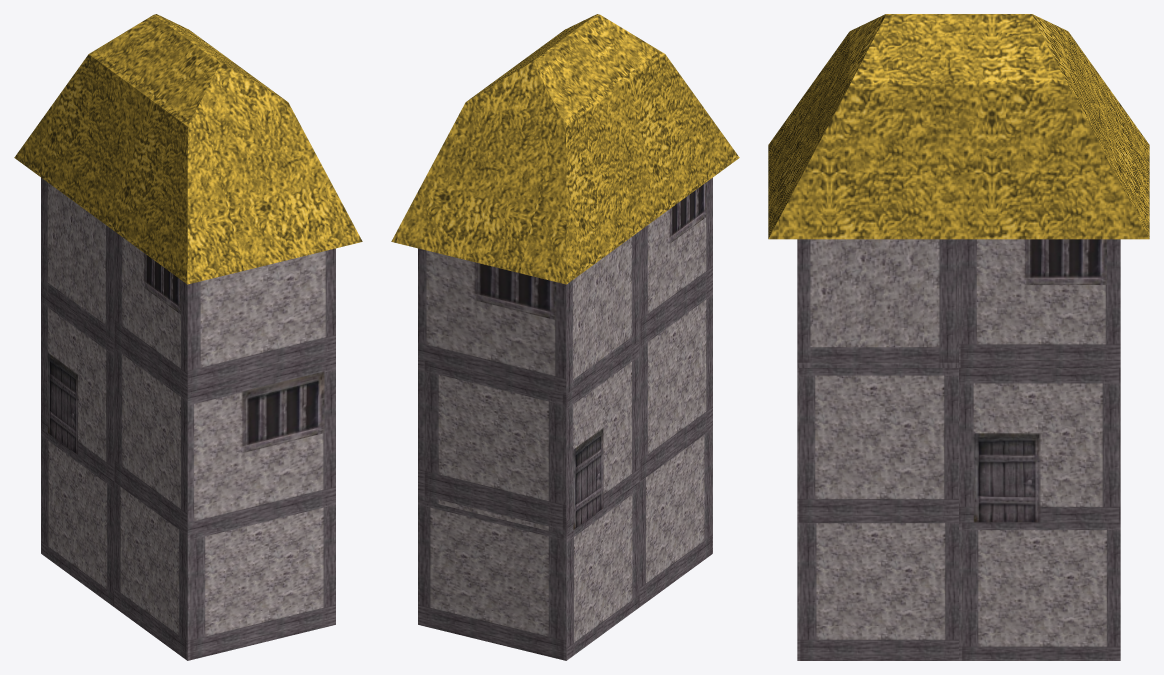
File: House.obj
3 renders of one model, left to right at view 1: azimuth 30°, elevation 25°; view 2: azimuth 150°, elevation 25°; view 3: azimuth 270°, elevation 25°, orthographic. The views are drawn at different scales.
Visible parts, largest first — view 1: Plane, Plane.001; view 2: Plane, Plane.001; view 3: Plane, Plane.001.
Boxes of the visible parts, box(x1,y1,x2,y2) form: Plane: box(41, 177, 335, 660); Plane.001: box(14, 14, 362, 284); Plane: box(418, 177, 712, 660); Plane.001: box(391, 14, 739, 284); Plane: box(797, 239, 1120, 660); Plane.001: box(768, 14, 1149, 239).
Size of the model in its own units: 0.0904 by 0.2712 by 0.1547.
2 materials, 2 textured.
